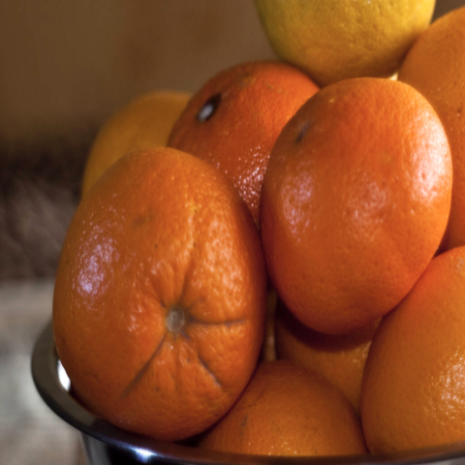orange: (41, 138, 271, 462), (241, 26, 457, 346)
